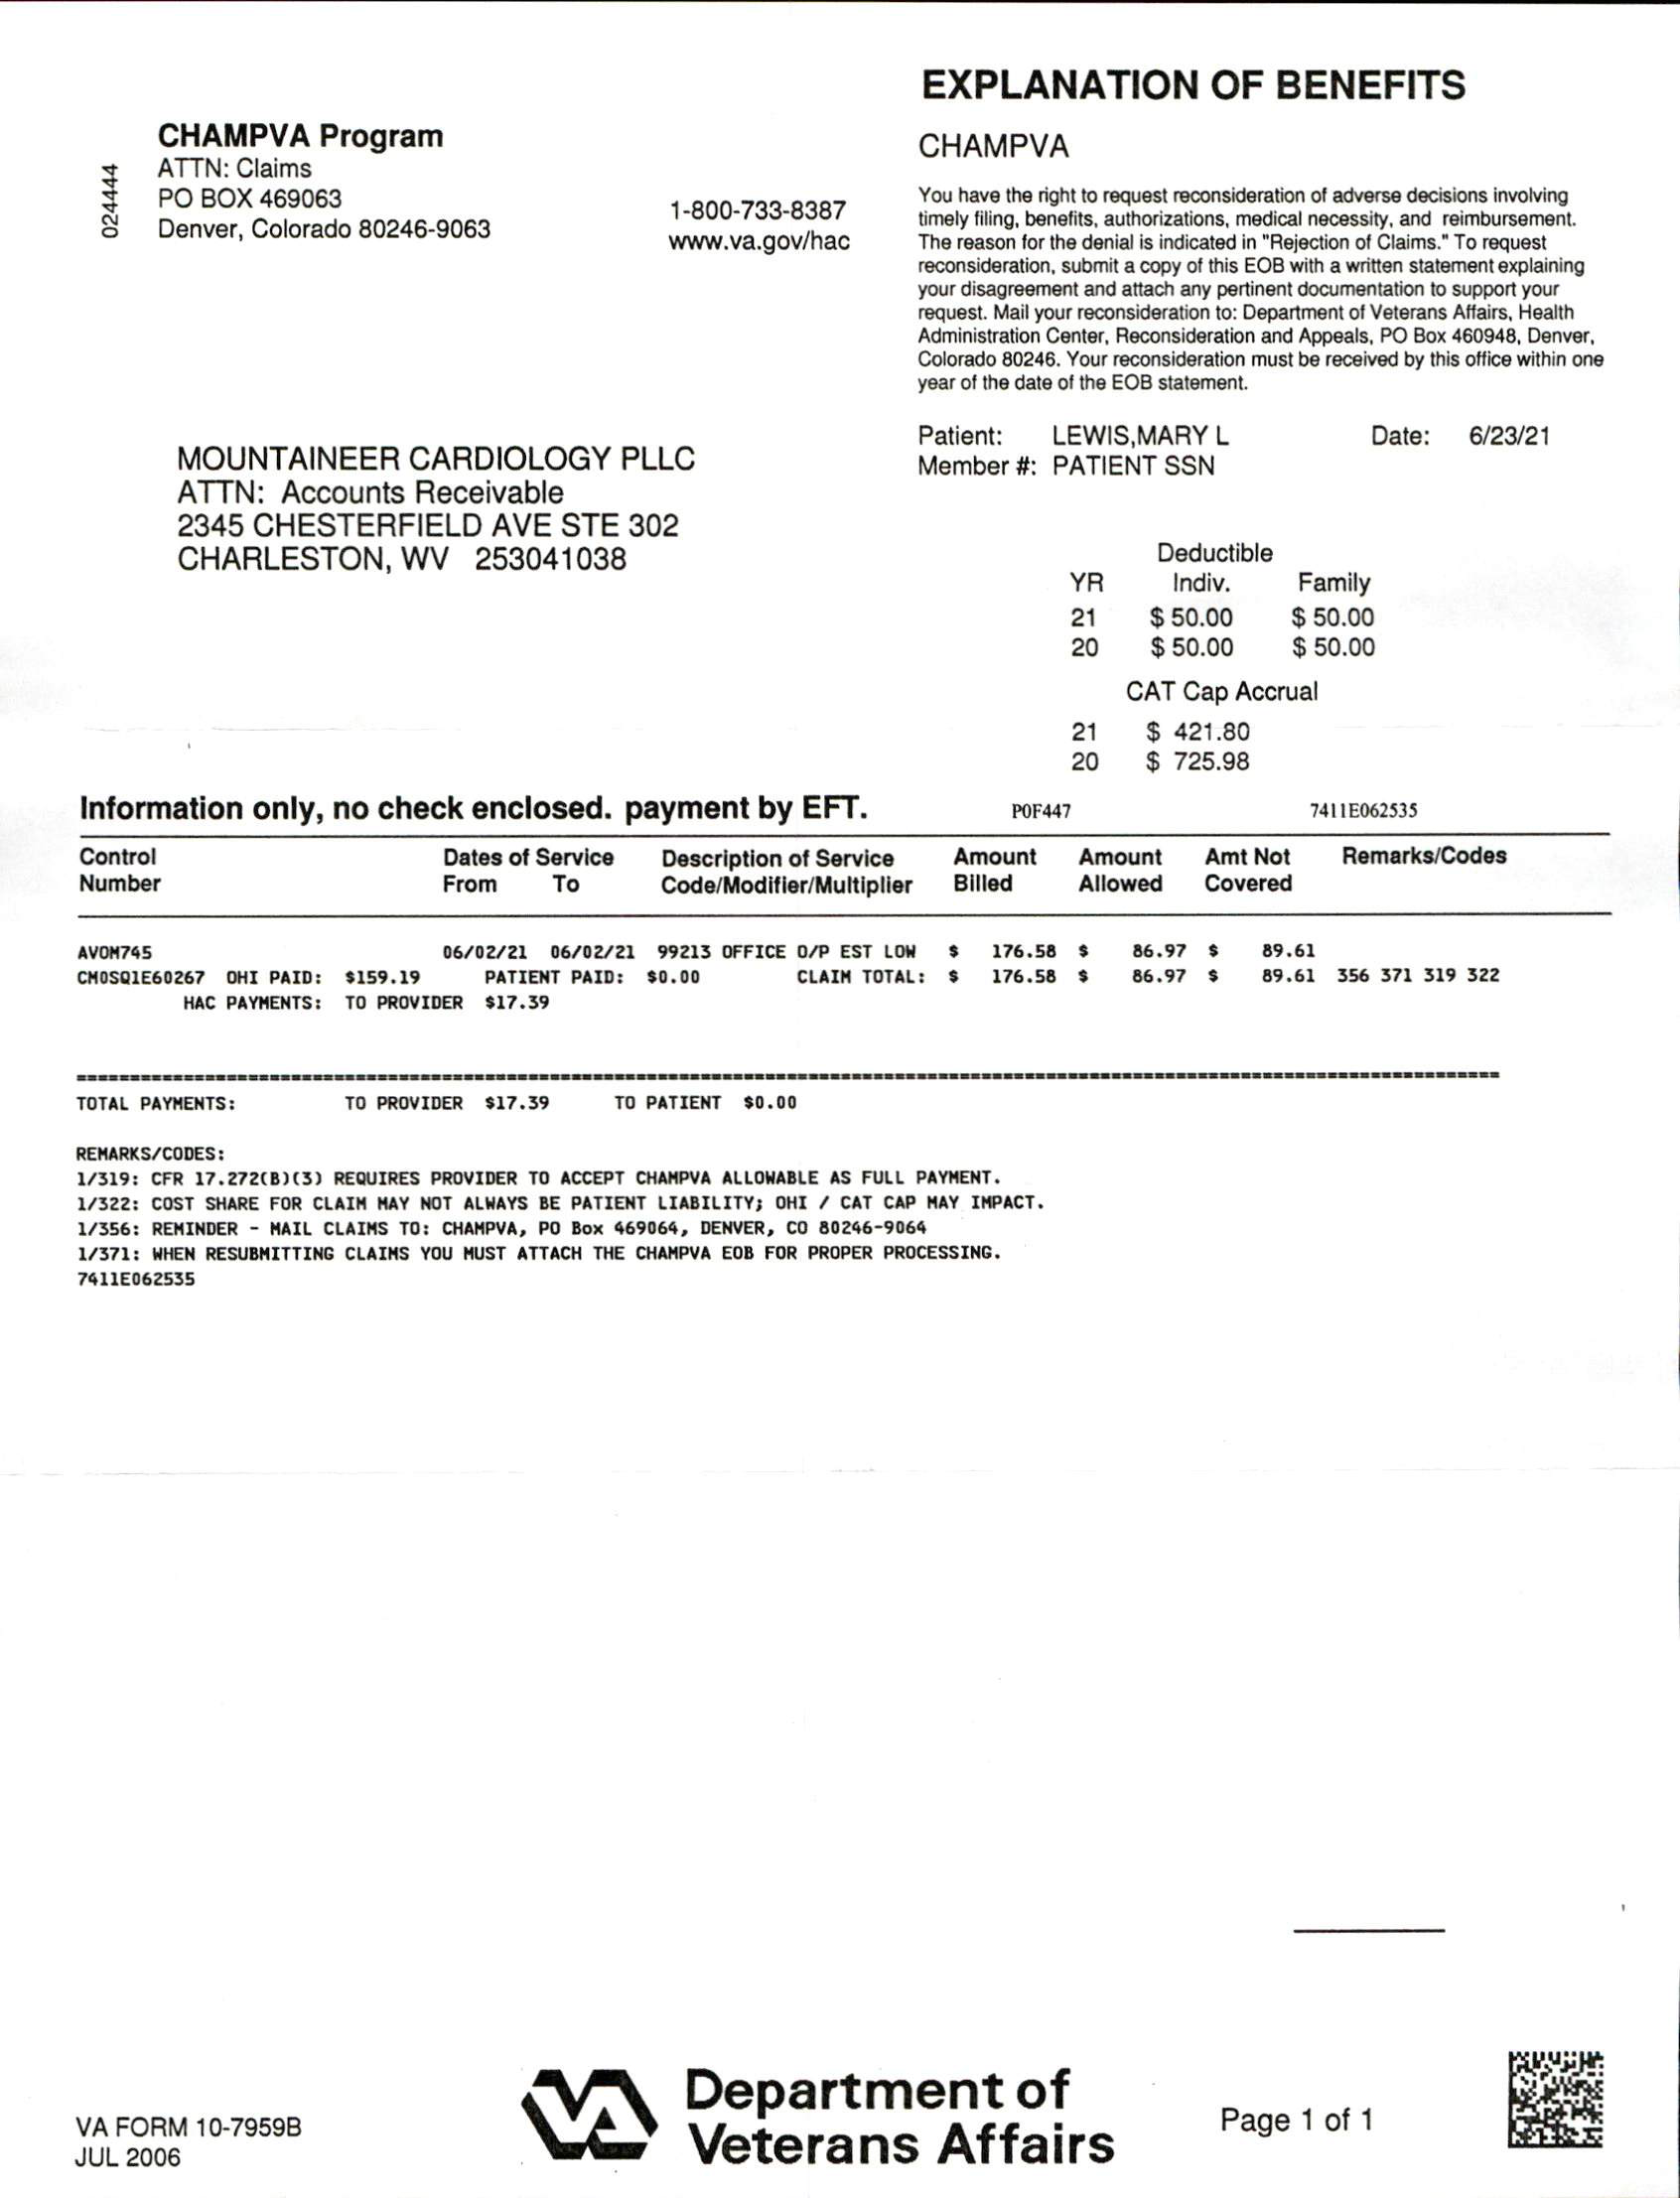data: (154, 416, 718, 610)
table: (58, 829, 1518, 1011)
